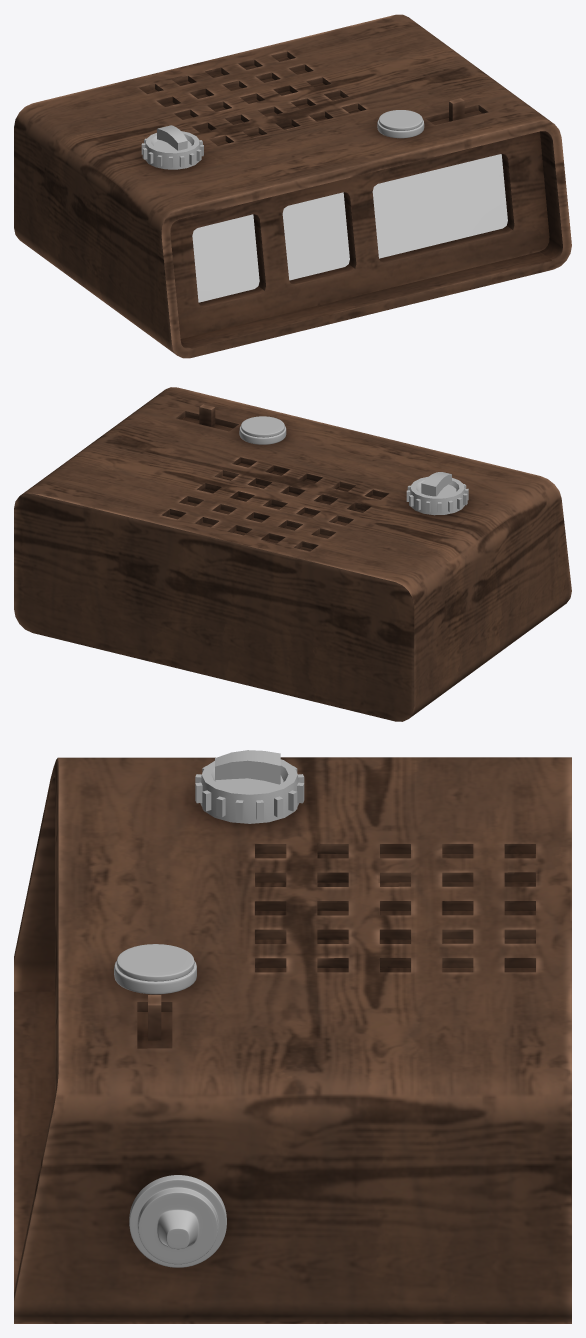
The model's file is digital_clock.fbx.
3 renders of one model, top to bottom at view 1: azimuth 30°, elevation 25°; view 2: azimuth 150°, elevation 25°; view 3: azimuth 270°, elevation 25°, orthographic. The views are drawn at different scales.
Parts seen in each view (by area): view 1: clock_base, scroll_dial, top_dial1, scroll_pin; view 2: clock_base, scroll_dial, top_dial1, scroll_pin; view 3: clock_base, side_dial, scroll_dial, top_dial1, scroll_pin, top_dial2.
Part boxes in pixels (bbox=[...]): clock_base: bbox=[14, 14, 571, 358]; scroll_dial: bbox=[141, 131, 203, 169]; top_dial1: bbox=[379, 110, 422, 130]; scroll_pin: bbox=[157, 125, 187, 150]; clock_base: bbox=[14, 387, 571, 721]; scroll_dial: bbox=[406, 476, 468, 515]; top_dial1: bbox=[241, 416, 284, 437]; scroll_pin: bbox=[421, 472, 451, 496]; clock_base: bbox=[14, 757, 571, 1323]; side_dial: bbox=[129, 1175, 226, 1267]; scroll_dial: bbox=[195, 759, 304, 823]; top_dial1: bbox=[116, 944, 194, 981]; scroll_pin: bbox=[215, 750, 280, 784]; top_dial2: bbox=[114, 961, 196, 994].
Bounding box in the file's own units: 4.77 × 1.79 × 3.08.
Materials: 3 (1 with a texture image).
